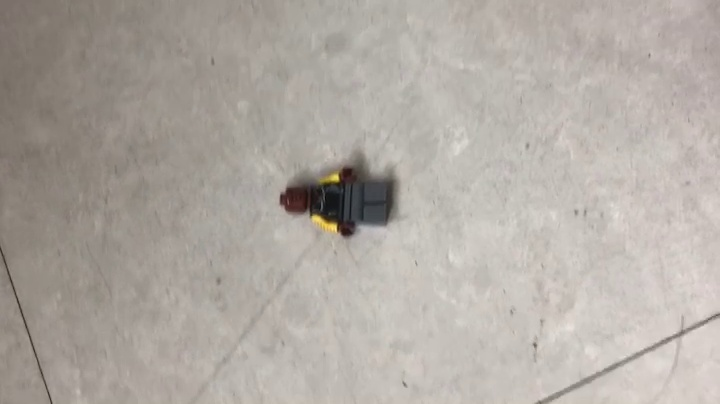people: (279, 165, 396, 237)
